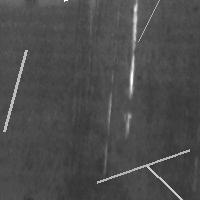scratches: (92, 145, 194, 187), (0, 45, 31, 136), (140, 159, 200, 200), (121, 1, 139, 134), (133, 0, 167, 46), (59, 0, 136, 5)
